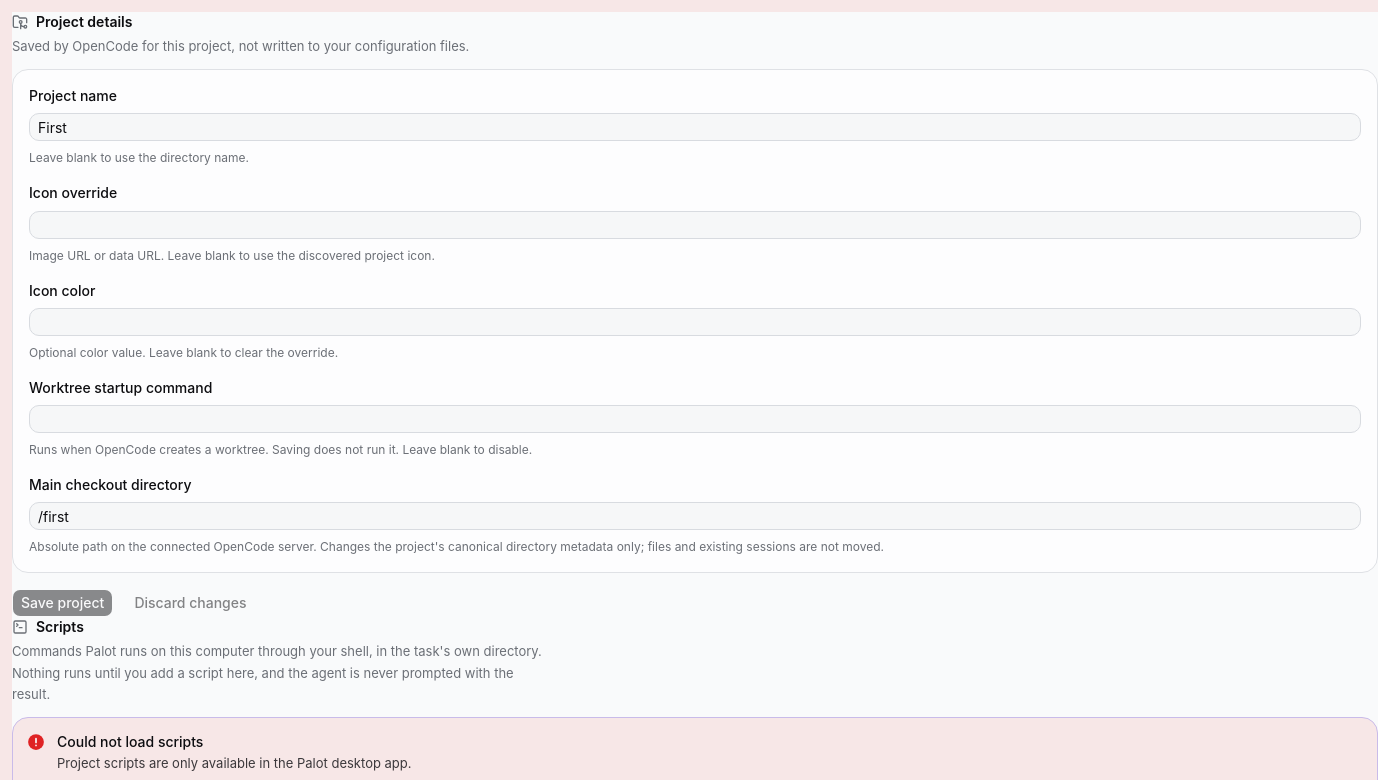
Test: Project settings › retains failed edits, then saves only the edited field
The image size is (1378, 780).
Replace the text in the field labelled "Project name" with "Edited" at {"x": 695, "y": 127}, box [29,113,1361,141]
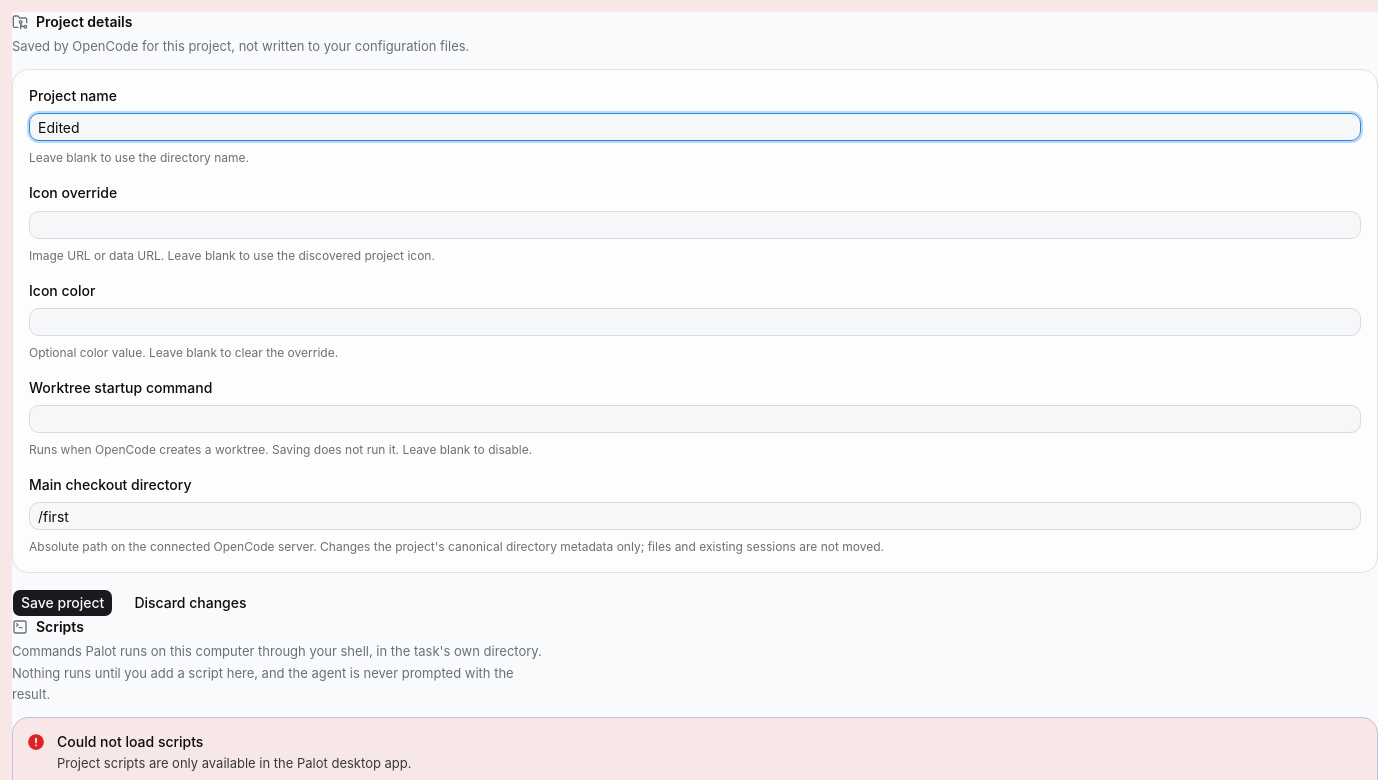
Click the button "Save project" at {"x": 63, "y": 603}, box [12,589,113,617]
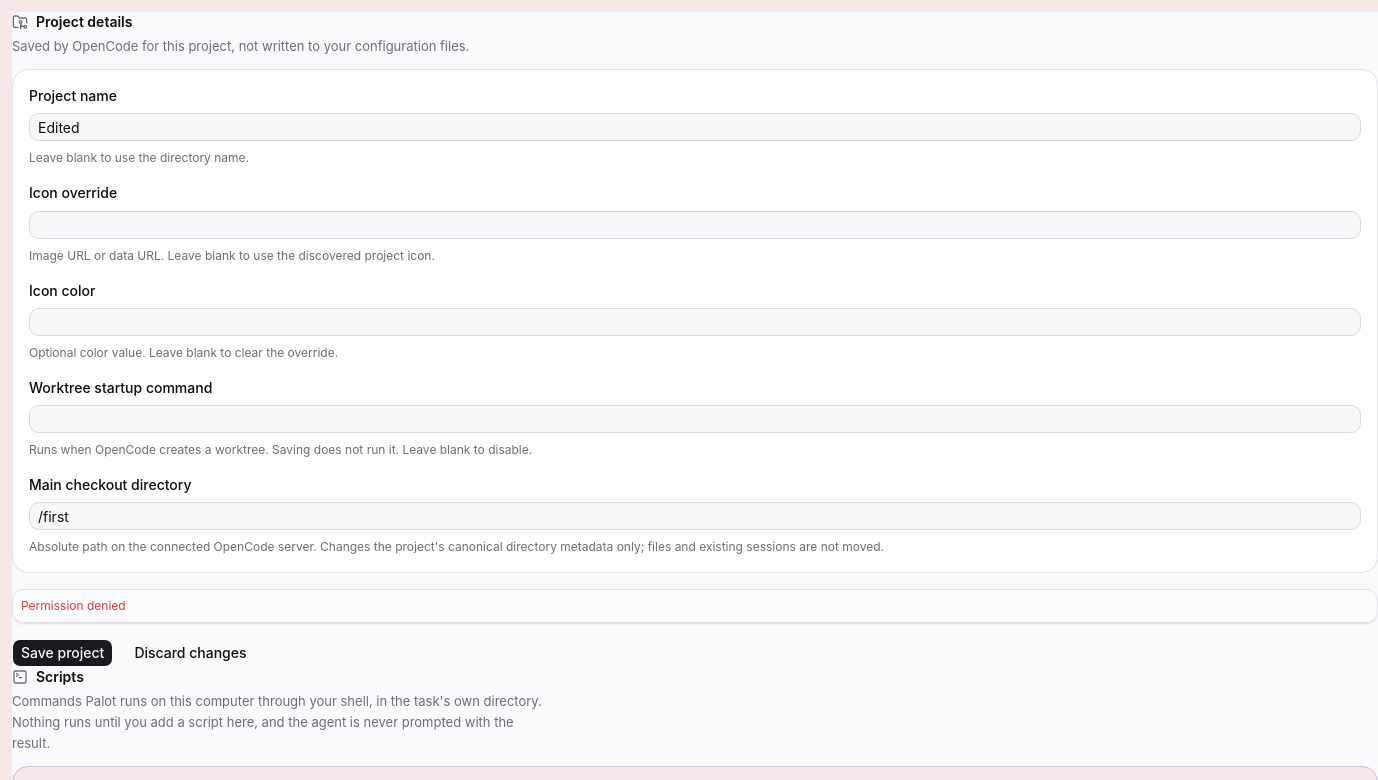
Now the text "Permission denied" is shown, box [21,598,126,613]
Click the button "Save project" at {"x": 63, "y": 653}, box [12,639,113,667]
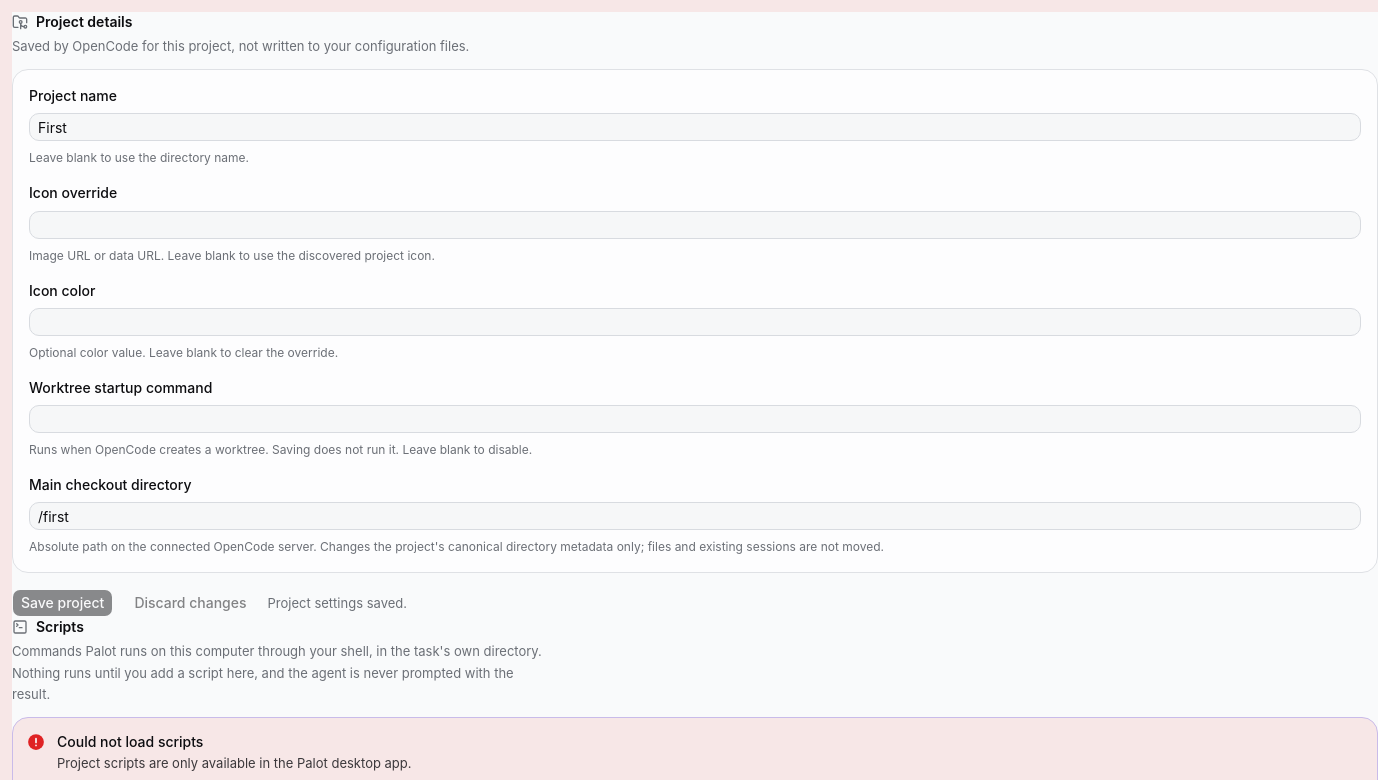
Now the text "Project settings saved." is shown, box [268,594,407,612]
